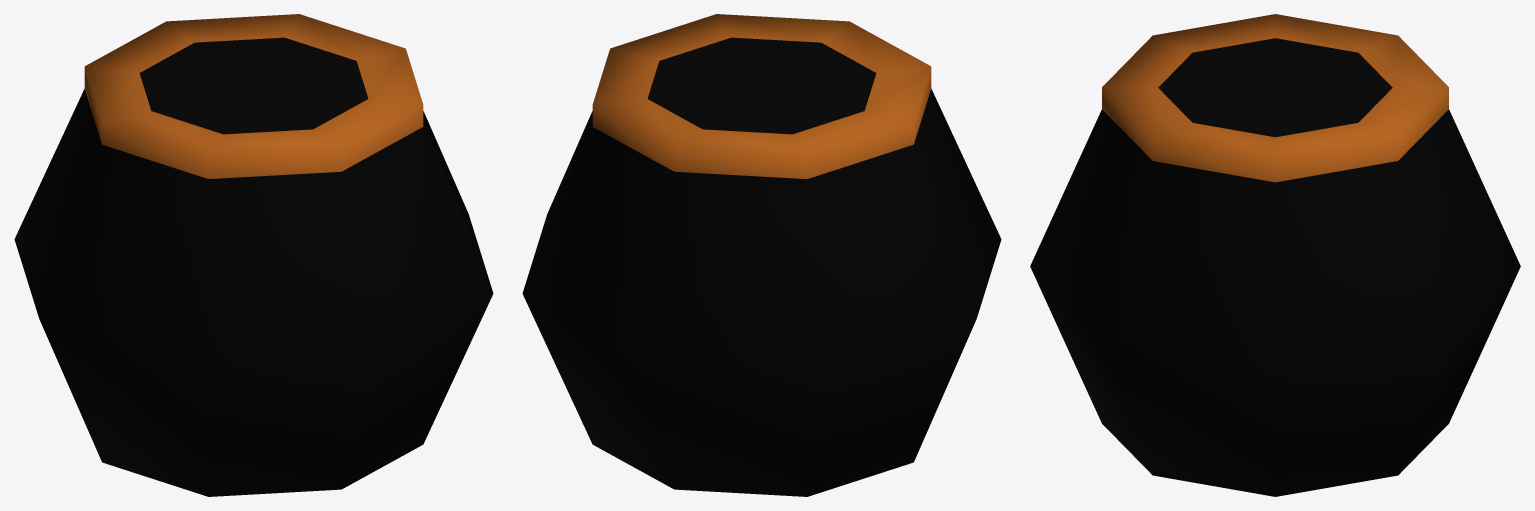
File: Impact_grenade_V1 (1).fbx
3 renders of one model, left to right at view 1: azimuth 30°, elevation 25°; view 2: azimuth 150°, elevation 25°; view 3: azimuth 270°, elevation 25°, orthographic.
Parts seen in each view (by area): view 1: Impact_grenade; view 2: Impact_grenade; view 3: Impact_grenade.
Part boxes in pixels (x1,y1,x2,y2): Impact_grenade: (14,14,493,496); Impact_grenade: (522,14,1001,496); Impact_grenade: (1030,14,1520,496).
Size of the model in its own units: 10 by 9.04 by 10.
